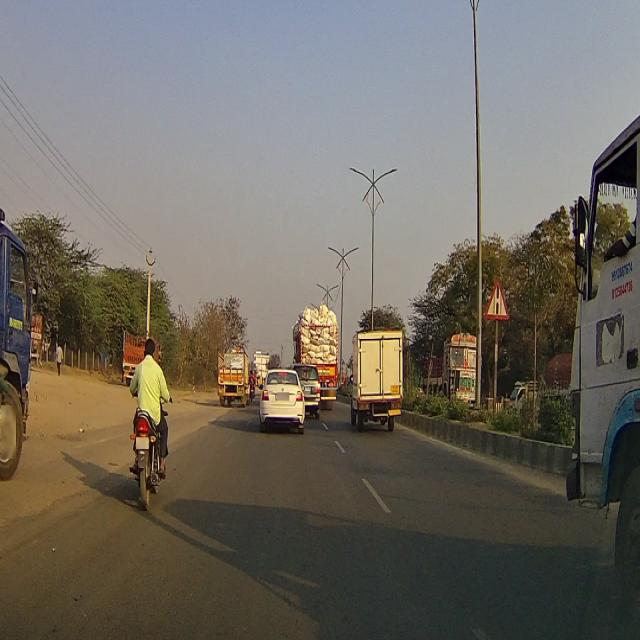left-hand-curve: (486, 273, 505, 314)
